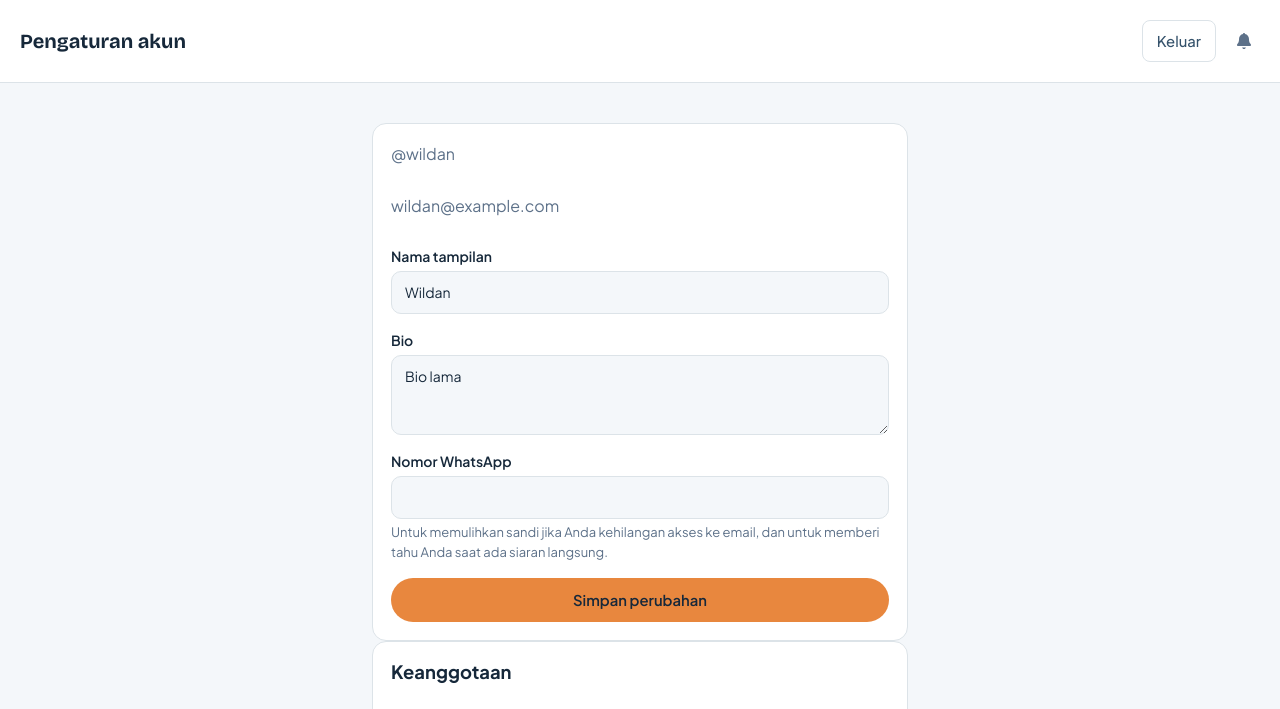
Test: SettingsPage › shows an error message when saving fails, without losing what was typed
Clear the field labelled "Nama tampilan" at (640, 293), box [391,271,889,314]
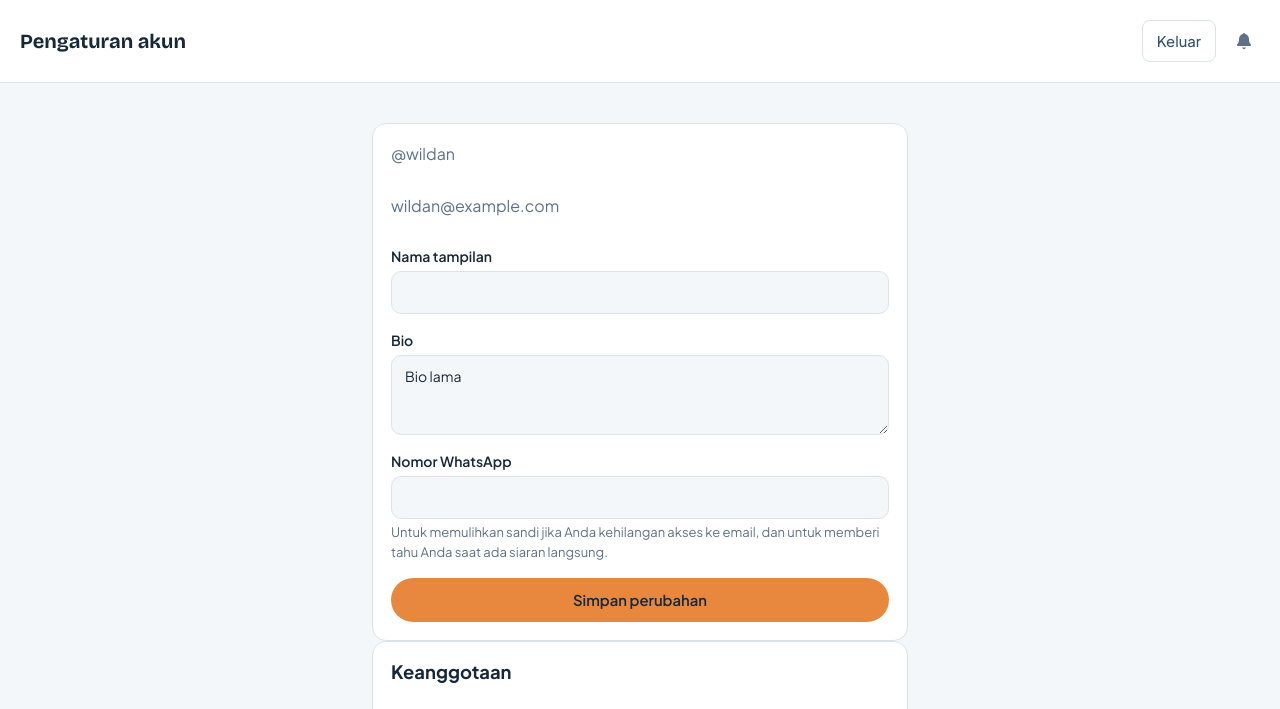
Click the button "Simpan perubahan" at (640, 600), box [391,578,889,622]
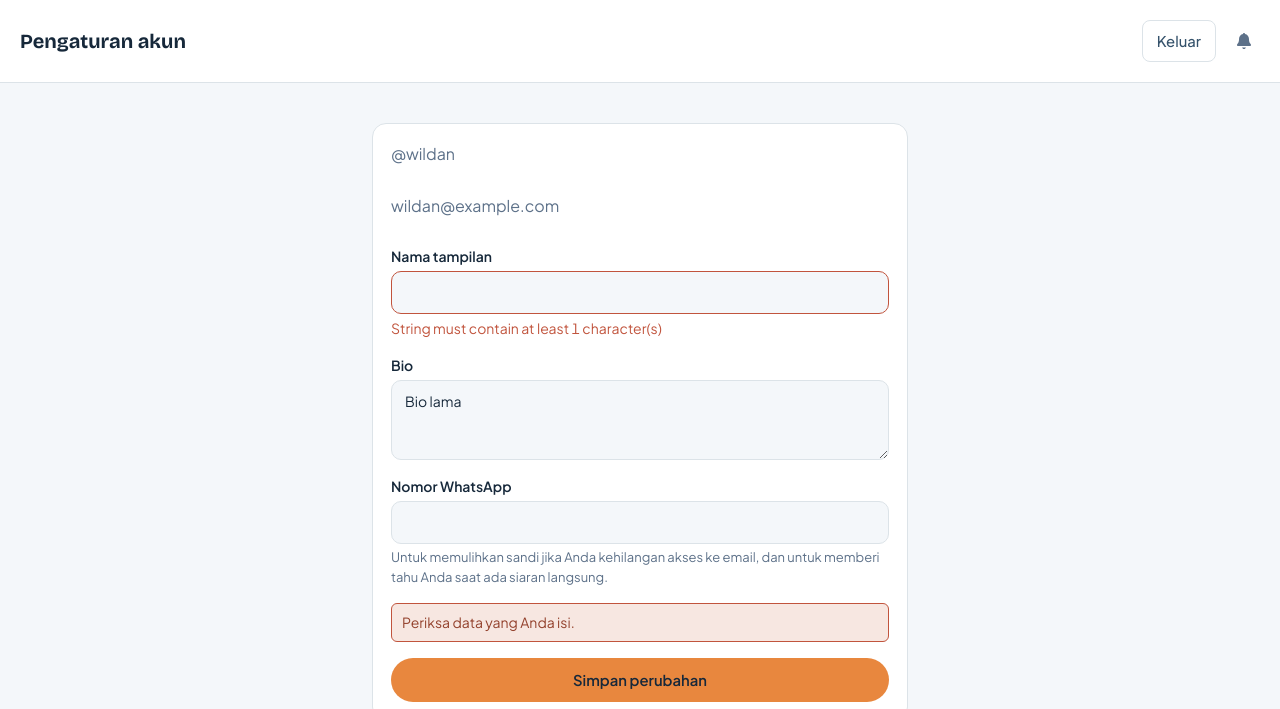
Check: the text with test id "error-displayName" shows "at least 1 character", box [391,319,662,337]
